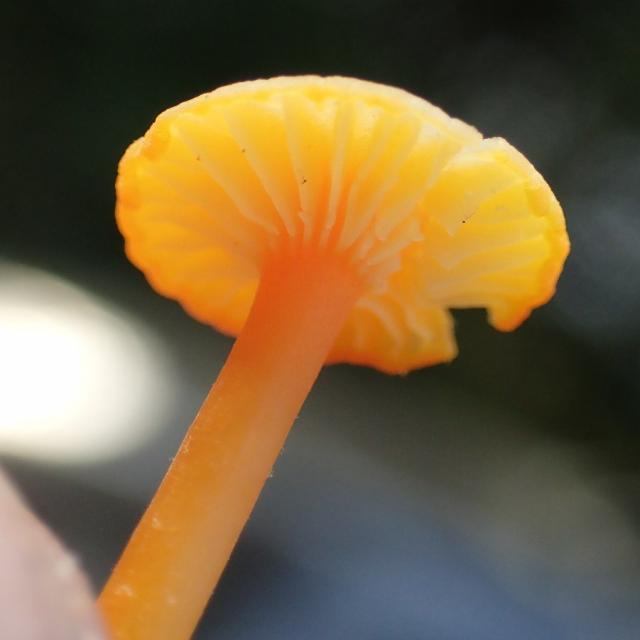Cantharellus cibarius: (90, 74, 569, 638)
